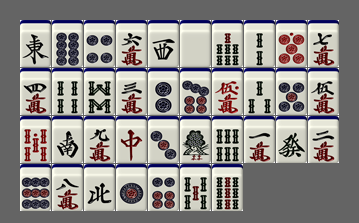0m: (212, 68, 243, 115)
0p: (276, 20, 307, 67)
0s: (20, 116, 51, 163)
1m: (244, 116, 275, 163)
1p: (116, 164, 147, 211)
1s: (180, 116, 211, 163)
1z: (20, 20, 51, 67)
2m: (308, 116, 339, 163)
2p: (148, 68, 179, 115)
2s: (244, 20, 275, 67)
2z: (52, 116, 83, 163)
3m: (116, 68, 147, 115)
3p: (148, 116, 179, 163)
3s: (244, 68, 275, 115)
3z: (148, 20, 179, 67)
4m: (20, 68, 51, 115)
4p: (84, 20, 115, 67)
4s: (52, 68, 83, 115)
4z: (84, 164, 115, 211)
5m: (308, 68, 339, 115)
5p: (276, 68, 307, 115)
5s: (180, 164, 211, 211)
5z: (180, 20, 211, 67)
6m: (116, 20, 147, 67)
6p: (148, 164, 179, 211)
6s: (212, 116, 243, 163)
6z: (276, 116, 307, 163)
7m: (308, 20, 339, 67)
7p: (180, 68, 211, 115)
7s: (212, 20, 243, 67)
7z: (116, 116, 147, 163)
8m: (52, 164, 83, 211)
8p: (52, 20, 83, 67)
8s: (84, 68, 115, 115)
9m: (84, 116, 115, 163)
9p: (20, 164, 51, 211)
9s: (212, 164, 243, 211)
